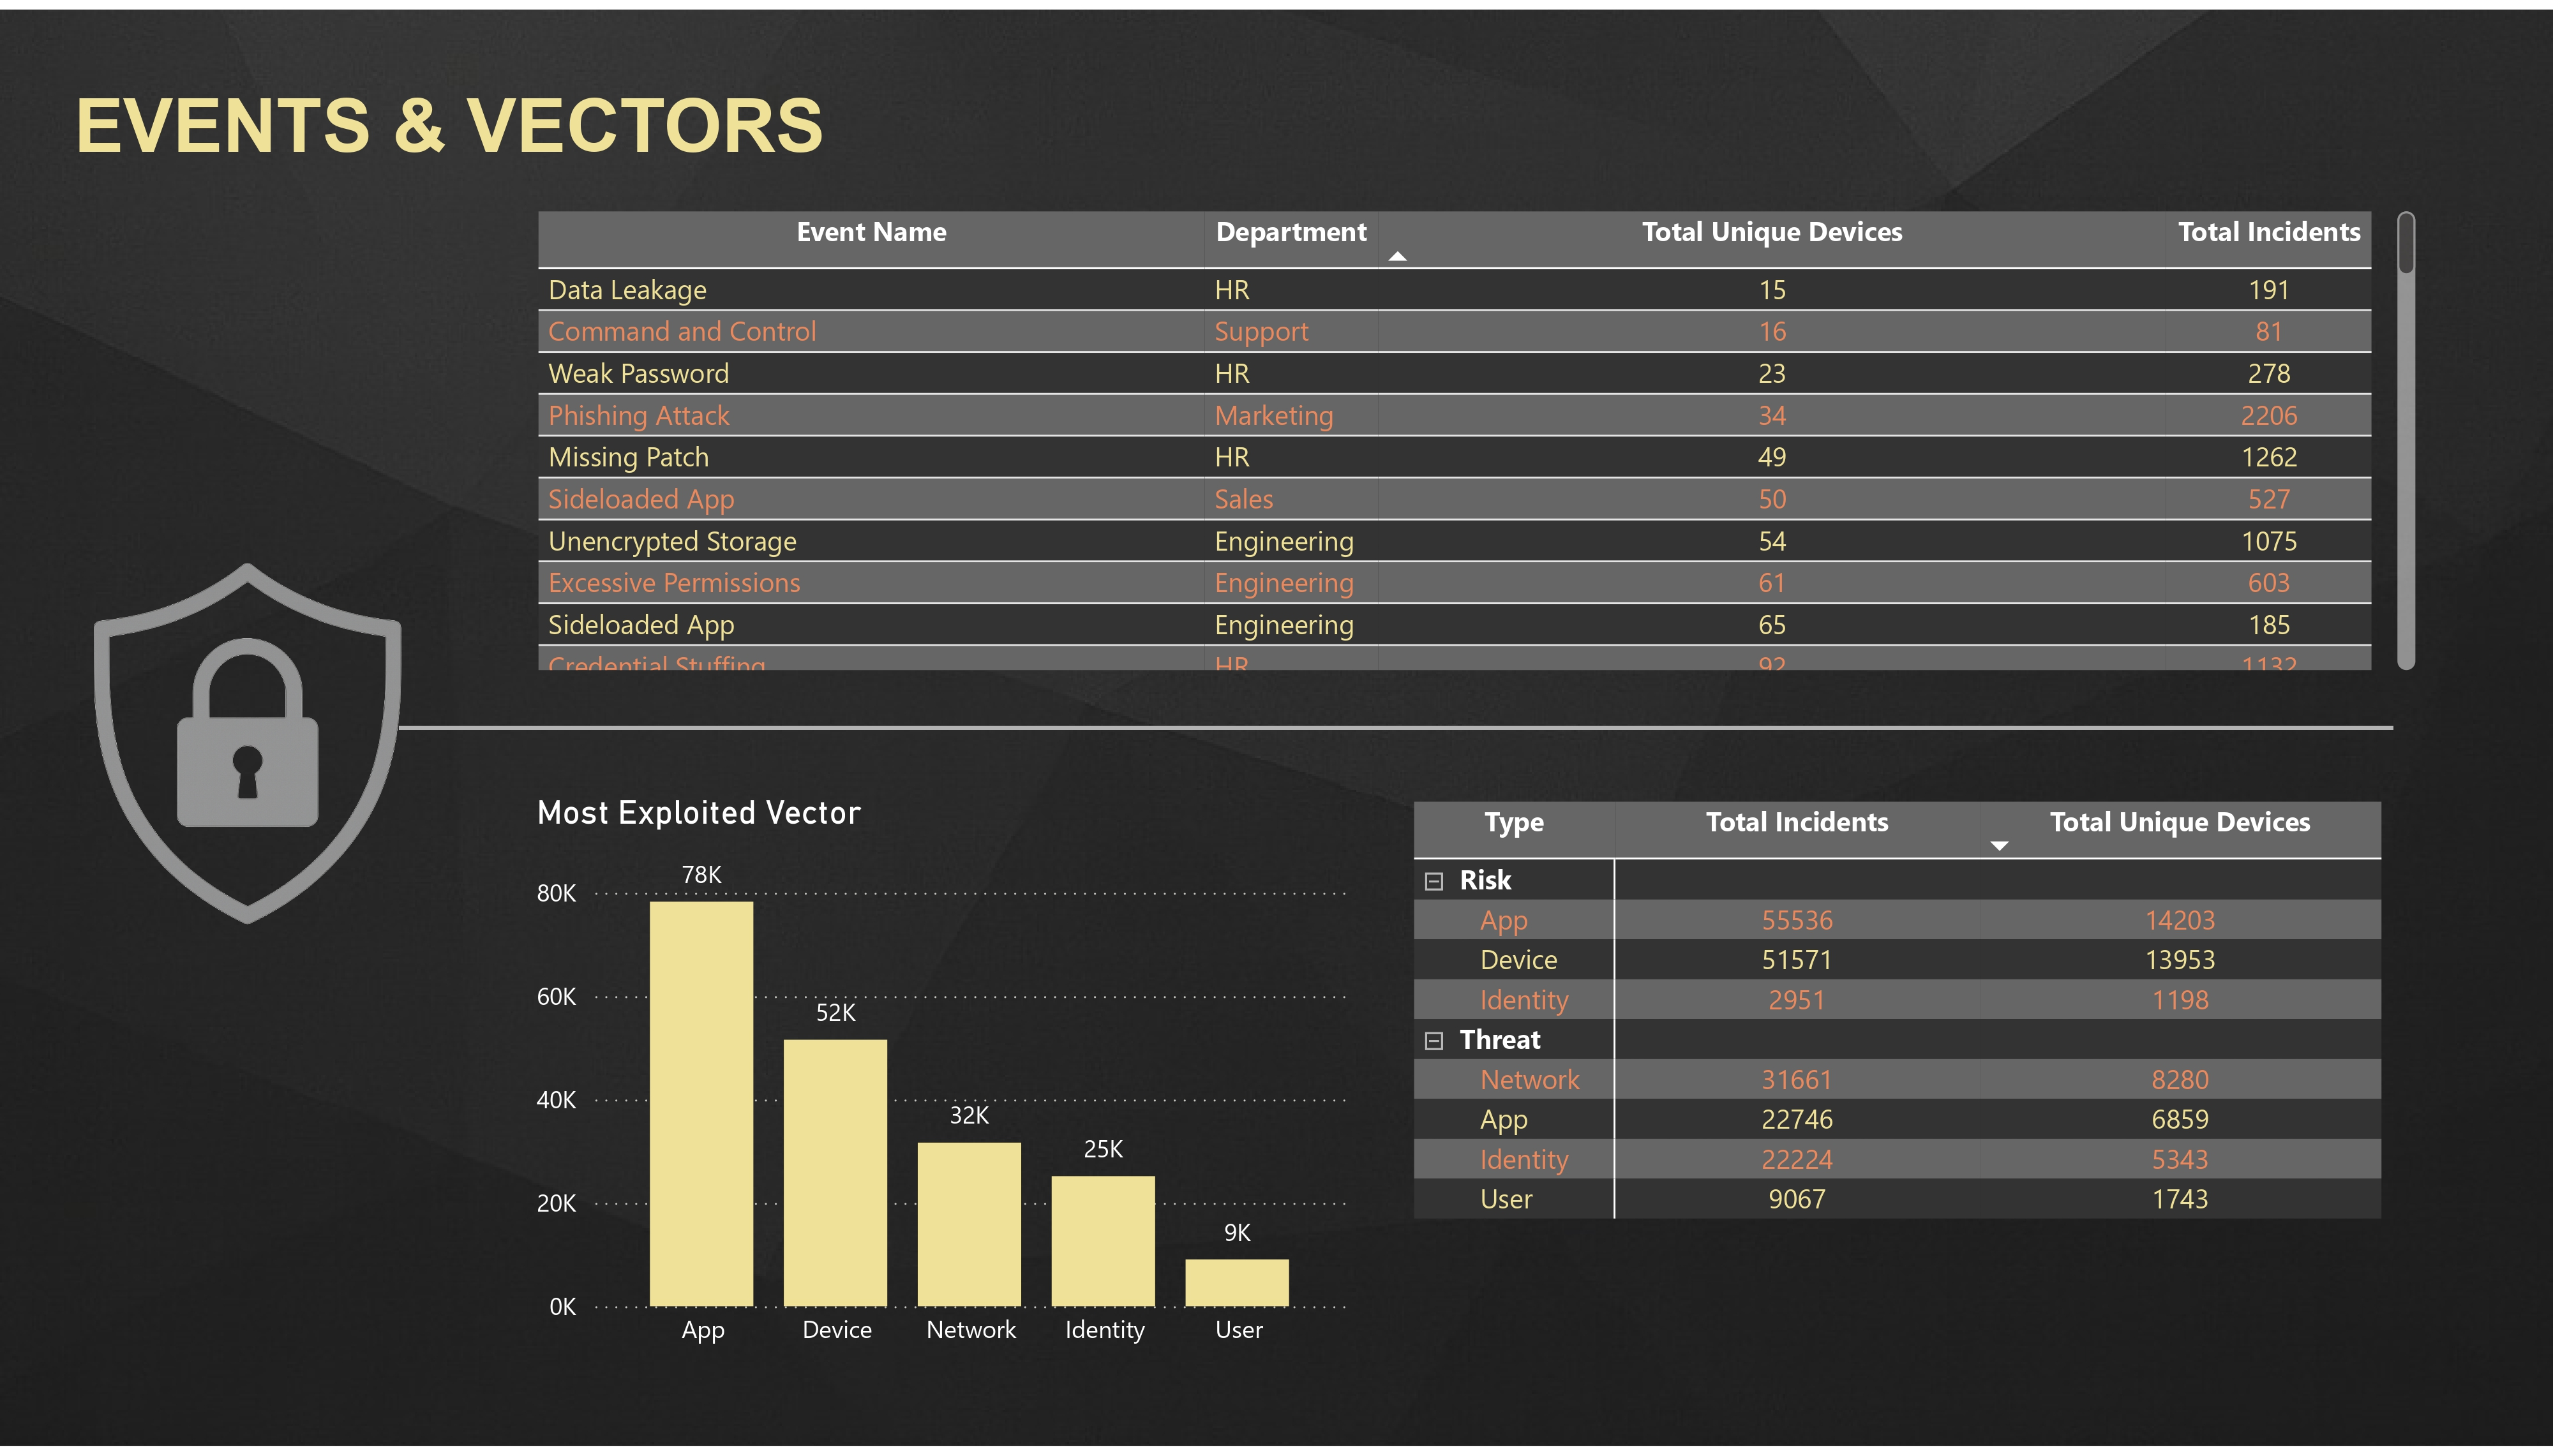

What the dashboard file says about the page in this screenshot:
{"tool":"powerbi","page":{"name":"Threat Type & Vector & Event  Analysis","canvas":[1280,720],"ordinal":1},"visuals":[{"type":"textbox","box":[8,104,576,24],"z":0},{"type":"clusteredColumnChart","title":"Most Exploited Vector","fields":{"Y":["Key Measures.Sum_Total_Count"],"Category":["Risk Data_Final.Vector"]},"box":[264,392,416,288],"z":1000},{"type":"pivotTable","fields":{"Rows":["Risk Data_Final.Type","Risk Data_Final.Vector"],"Values":["Key Measures.Sum_Total_Count","Sum(Risk Data_Final.Unique Devices)"]},"box":[704,392,512,296],"z":2000},{"type":"tableEx","fields":{"Values":["Risk Data_Final.Event Name","Risk Data_Final.Department","Sum(Risk Data_Final.Unique Devices)","Key Measures.Sum_Total_Count"]},"box":[264,96,952,240],"z":3000},{"type":"image","box":[0,240,248,256],"z":4000},{"type":"shape","box":[200,208,1000,304],"z":5000},{"type":"textbox","box":[32,32,440,64],"z":6000}]}

Visuals, with their boxes in screenshot pixels (x1, y1, x2, y2), scaled from the page's 1280x720 canvas onto the 2553x1456 screenshot:
textbox: Rect(16, 211, 1165, 259)
"Most Exploited Vector" clusteredColumnChart: Rect(527, 792, 1356, 1375)
pivotTable - Risk Data_Final.Type x Risk Data_Final.Vector: Rect(1404, 792, 2425, 1392)
tableEx - Risk Data_Final.Event Name x Risk Data_Final.Department: Rect(527, 194, 2425, 680)
image: Rect(0, 486, 495, 1003)
shape: Rect(399, 420, 2393, 1036)
textbox: Rect(64, 64, 941, 194)
